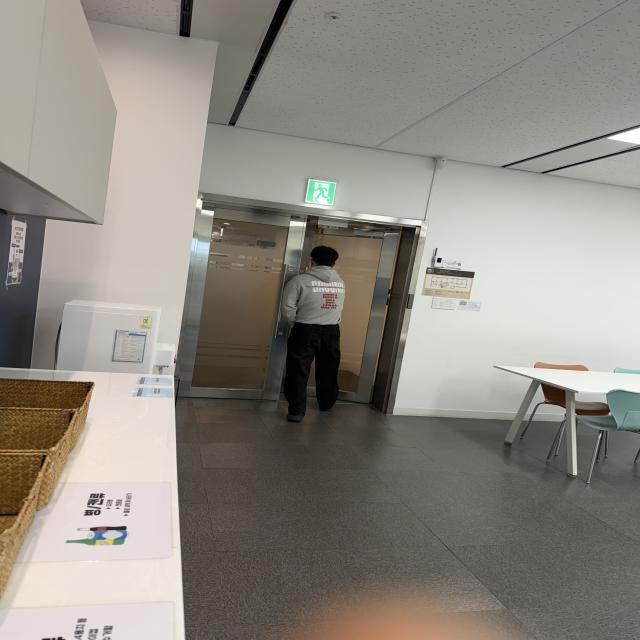rear_door: (178, 201, 404, 408)
